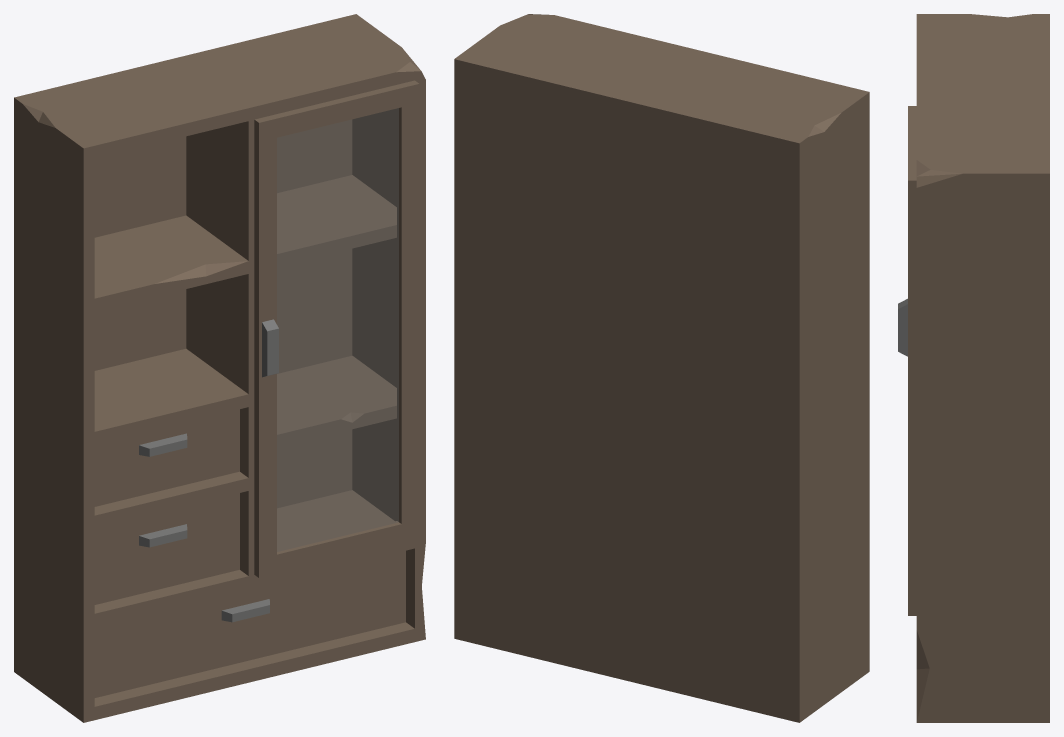
The model's file is SM_Prop_Shelf_01.fbx.
3 views of the same model, side by side, from view 1: azimuth 30°, elevation 25°; view 2: azimuth 150°, elevation 25°; view 3: azimuth 270°, elevation 25° (orthographic). The views are drawn at different scales.
Visible parts, largest first — view 1: SM_Prop_Shelf_01; view 2: SM_Prop_Shelf_01; view 3: SM_Prop_Shelf_01.
Part boxes in pixels (box(x1,y1,x2,y2)): SM_Prop_Shelf_01: box(14, 14, 425, 722); SM_Prop_Shelf_01: box(454, 14, 869, 722); SM_Prop_Shelf_01: box(898, 14, 1049, 722).
Size of the model in its own units: 115 by 185 by 46.22.
